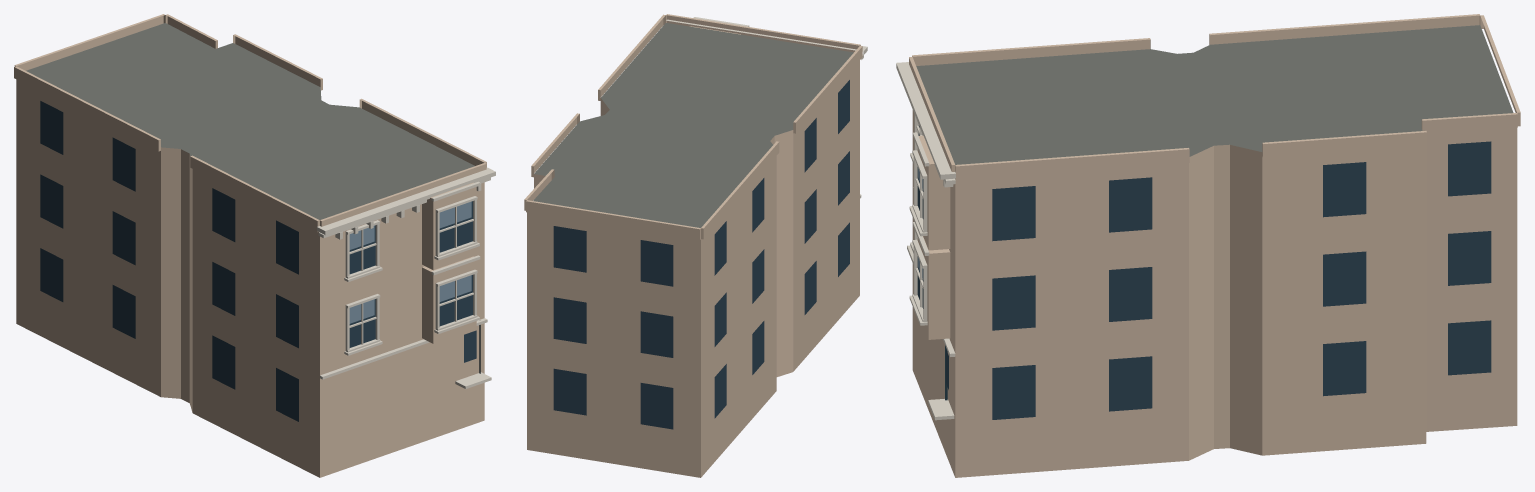
3 renders of one model, left to right at view 1: azimuth 30°, elevation 25°; view 2: azimuth 150°, elevation 25°; view 3: azimuth 270°, elevation 25°, orthographic. The views are drawn at different scales.
Parts seen in each view (by area): view 1: Footprint 0 / surface 2, Footprint 0 / surface 1, Inset glazing, Facade bay volumes, Cornices and window frames, Sky reflection panels; view 2: Footprint 0 / surface 2, Footprint 0 / surface 1, Inset glazing, Facade bay volumes, Cornices and window frames; view 3: Footprint 0 / surface 2, Footprint 0 / surface 1, Inset glazing, Facade bay volumes, Cornices and window frames.
Part boxes in pixels (x1,y1,x2,y2): Footprint 0 / surface 2: (16,79,484,477); Footprint 0 / surface 1: (26,23,474,219); Inset glazing: (40,101,476,421); Facade bay volumes: (14,14,486,343); Cornices and window frames: (317,167,495,388); Sky reflection panels: (349,201,471,323); Footprint 0 / surface 2: (527,60,859,477); Footprint 0 / surface 1: (533,23,853,227); Inset glazing: (553,80,849,429); Facade bay volumes: (524,14,862,240); Cornices and window frames: (666,17,867,198); Footprint 0 / surface 2: (912,110,1517,477); Footprint 0 / surface 1: (916,25,1513,164); Inset glazing: (917,125,1491,419); Facade bay volumes: (909,14,1520,339); Cornices and window frames: (896,62,955,420).
Size of the model in its own units: 12.04 by 11.42 by 20.64.
